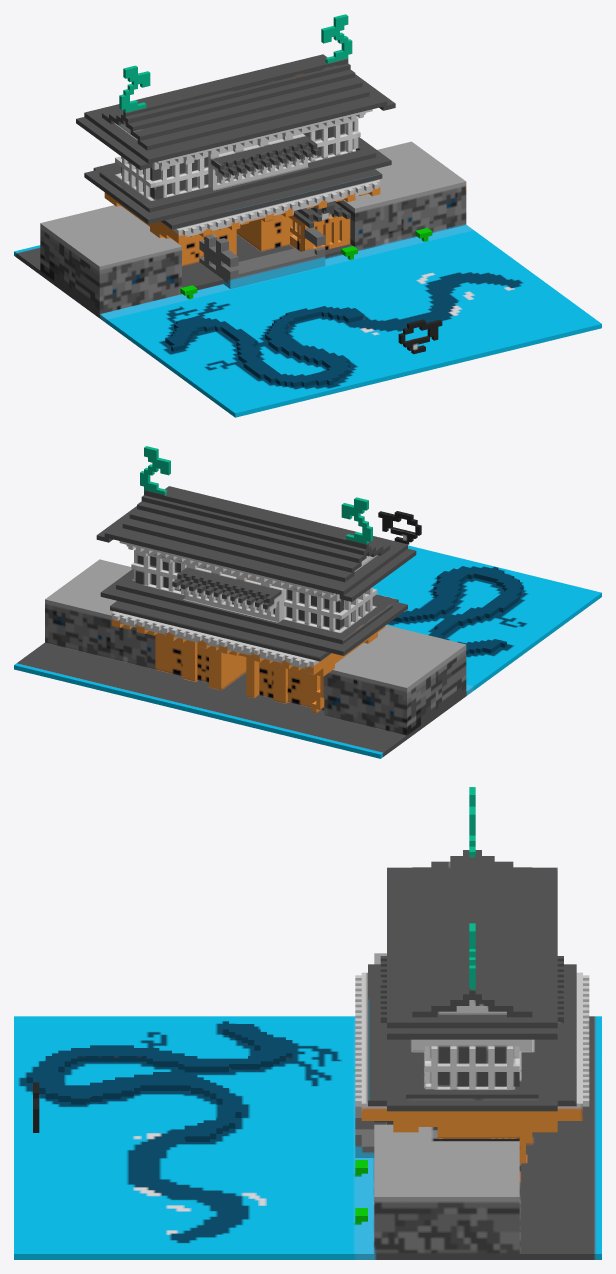
File: goromon_.glb
3 views of the same model, one above another, from view 1: azimuth 30°, elevation 25°; view 2: azimuth 150°, elevation 25°; view 3: azimuth 270°, elevation 25° (orthographic). The views are drawn at different scales.
Parts seen in each view (by area): view 1: goromon_; view 2: goromon_; view 3: goromon_.
Part boxes in pixels (box(x1,y1,x2,y2)): goromon_: box(14, 14, 601, 417); goromon_: box(14, 446, 601, 758); goromon_: box(14, 787, 601, 1259).
Bounding box in the file's own units: 1.78 × 0.96 × 1.86.
1 material, 1 textured.
